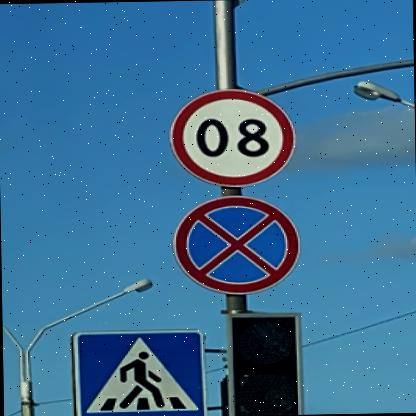crosswalk: (71, 328, 209, 415)
speedlimit: (172, 86, 298, 188)
trafficlight: (226, 310, 309, 414)
